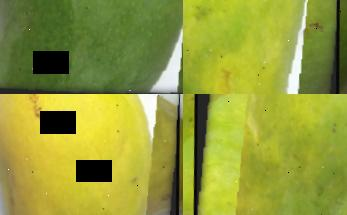PartiallyRipe: (187, 94, 347, 215), (183, 0, 345, 94)
Ripe: (0, 94, 183, 215)
Unripe: (0, 0, 183, 94)
